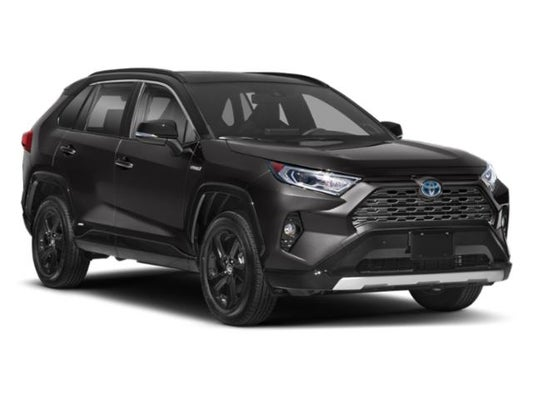Toyota RAV-4: (21, 66, 513, 327)
